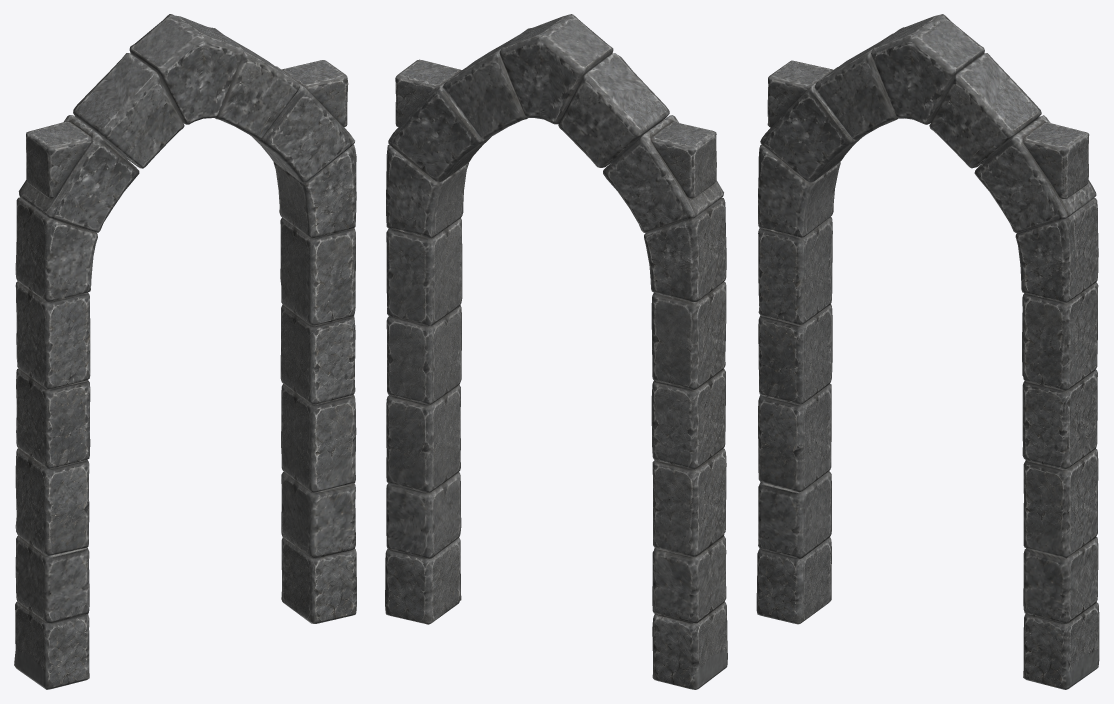
File: door_gothic_frame_v1.glb
3 views of the same model, side by side, from view 1: azimuth 30°, elevation 25°; view 2: azimuth 150°, elevation 25°; view 3: azimuth 330°, elevation 25° (orthographic).
Size of the model in its own units: 0.5311 by 1 by 0.1006.
1 material, 1 textured.
